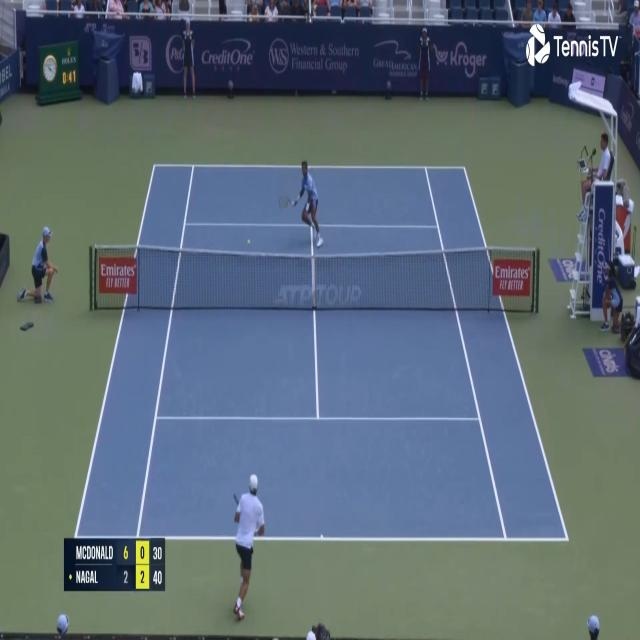tennis-player: (231, 471, 267, 624), (276, 157, 328, 251)
